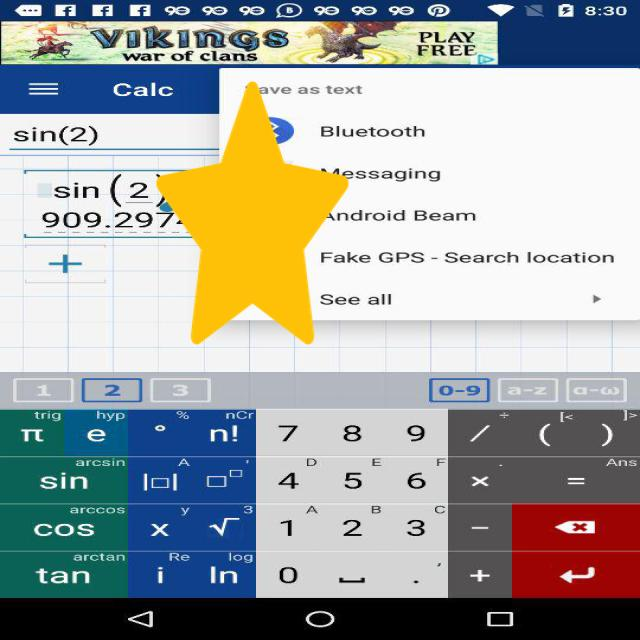forced continuity: (156, 81, 348, 345)
